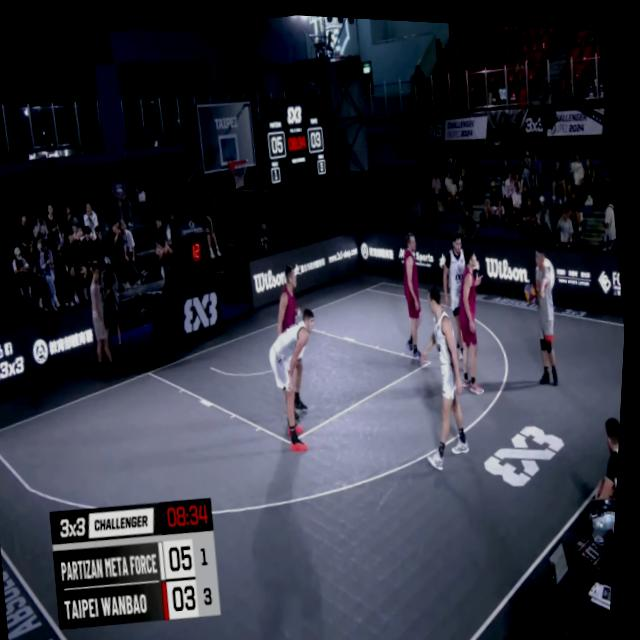ball: (525, 273, 541, 301)
hoop: (227, 150, 253, 189)
player: (408, 278, 484, 464), (261, 298, 338, 455), (268, 256, 324, 425), (445, 244, 504, 392), (437, 224, 488, 372), (394, 227, 437, 365)
